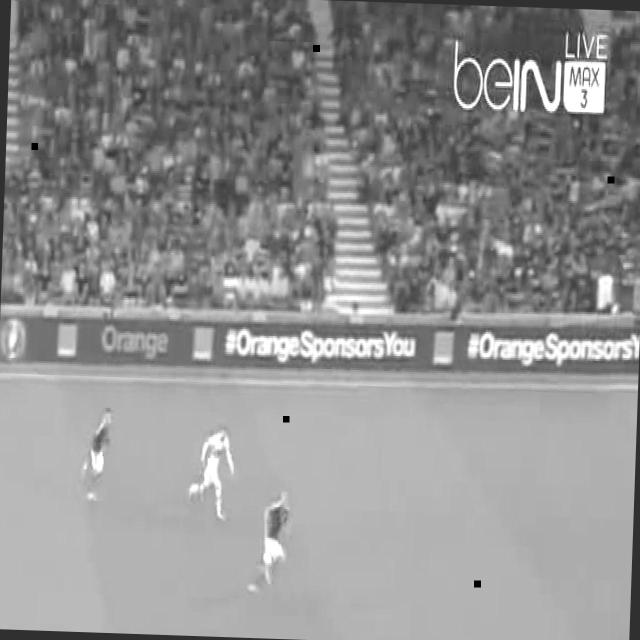player-white: (246, 488, 292, 598), (187, 422, 236, 522), (81, 405, 113, 504)
